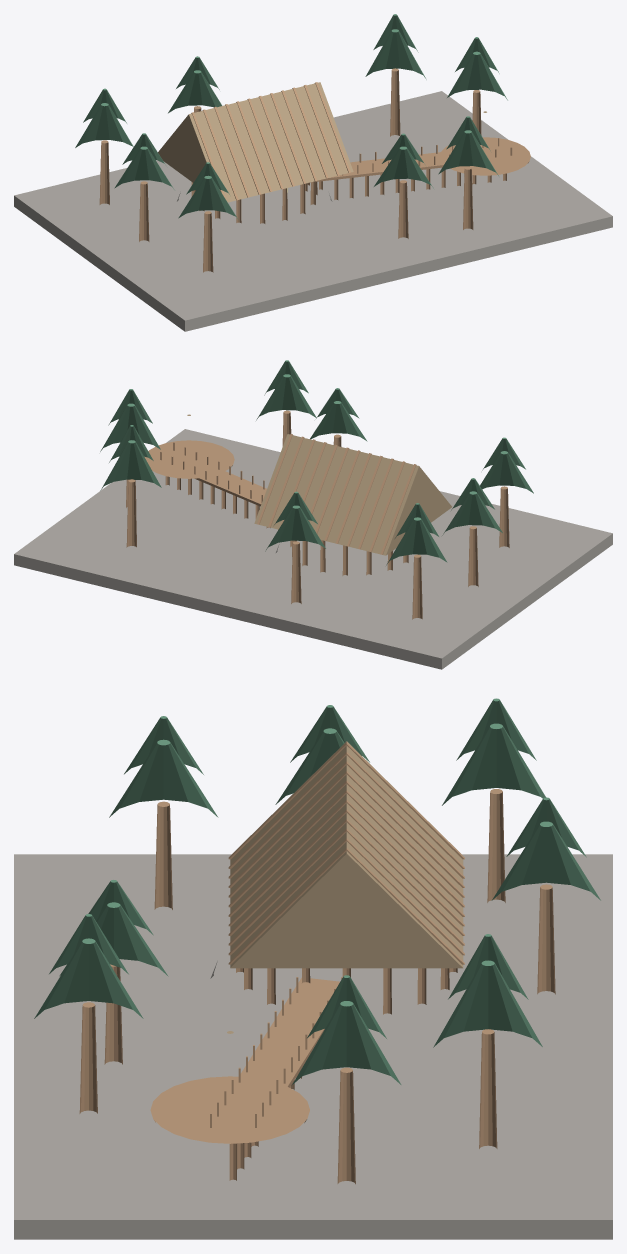
File: lm_65_khu_du_lich_rung_thong_nui_voi_pine_sanctuary_and_stone_pavilion.glb
3 views of the same model, one above another, from view 1: azimuth 30°, elevation 25°; view 2: azimuth 150°, elevation 25°; view 3: azimuth 270°, elevation 25° (orthographic). The views are drawn at different scales.
Parts seen in each view (by area): view 1: lm_65_khu_du_lich_rung_thong_nui_voi_pine_sanctuary_and_ston; view 2: lm_65_khu_du_lich_rung_thong_nui_voi_pine_sanctuary_and_ston; view 3: lm_65_khu_du_lich_rung_thong_nui_voi_pine_sanctuary_and_ston.
Part boxes in pixels (left/top/right/bottom): lm_65_khu_du_lich_rung_thong_nui_voi_pine_sanctuary_and_ston: left=14, top=14, right=612, bottom=331; lm_65_khu_du_lich_rung_thong_nui_voi_pine_sanctuary_and_ston: left=14, top=360, right=612, bottom=669; lm_65_khu_du_lich_rung_thong_nui_voi_pine_sanctuary_and_ston: left=14, top=698, right=612, bottom=1239.
Size of the model in its own units: 52 by 15.5 by 36.
